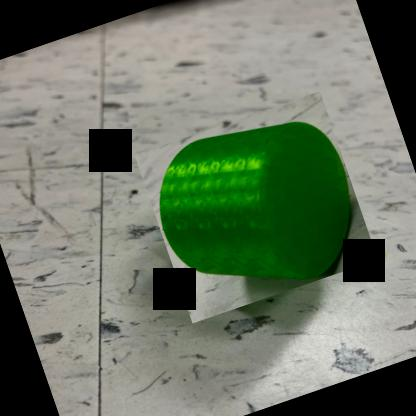green cylinder: (134, 92, 378, 324)
